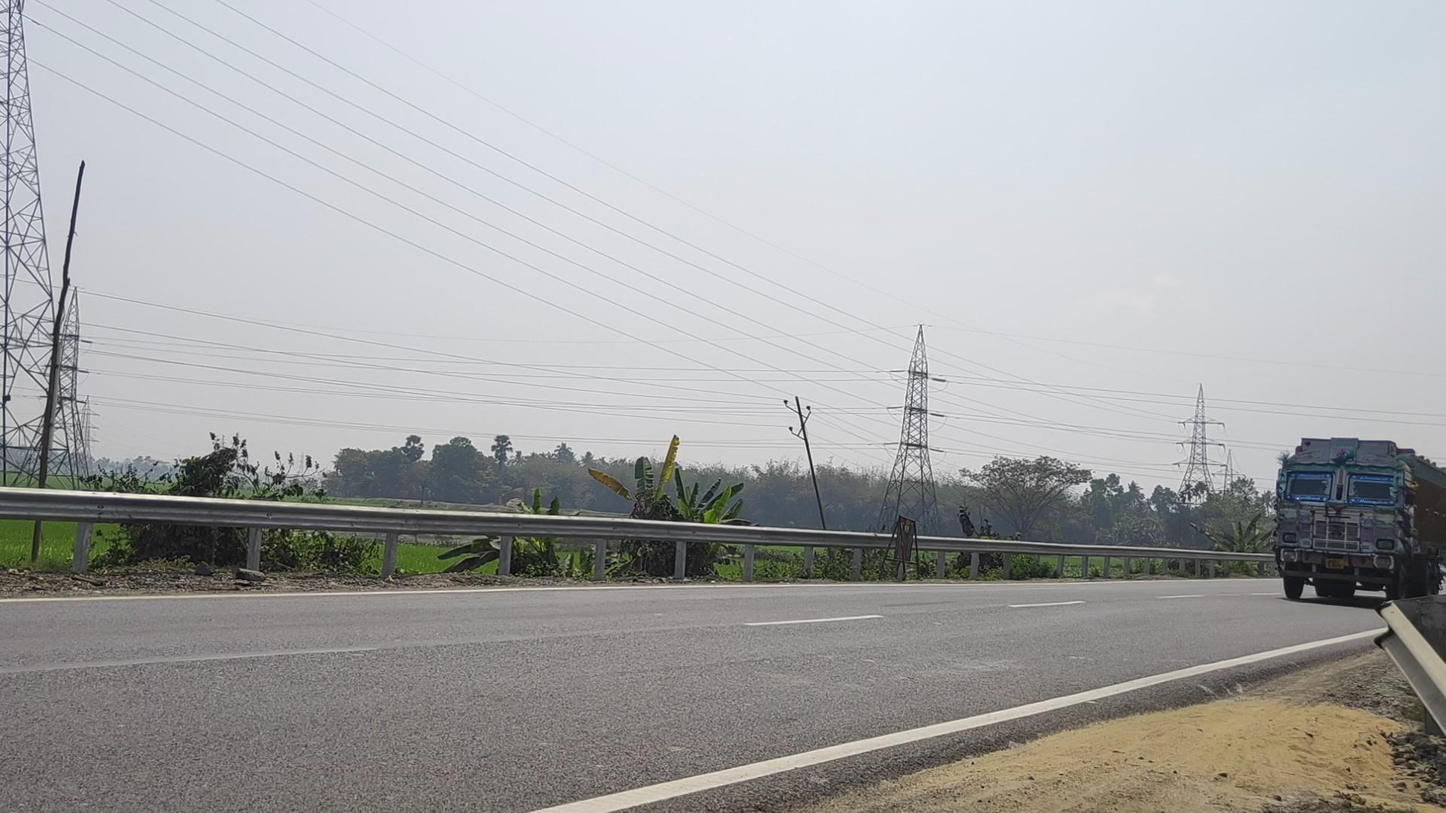truck: (1274, 437, 1446, 607)
